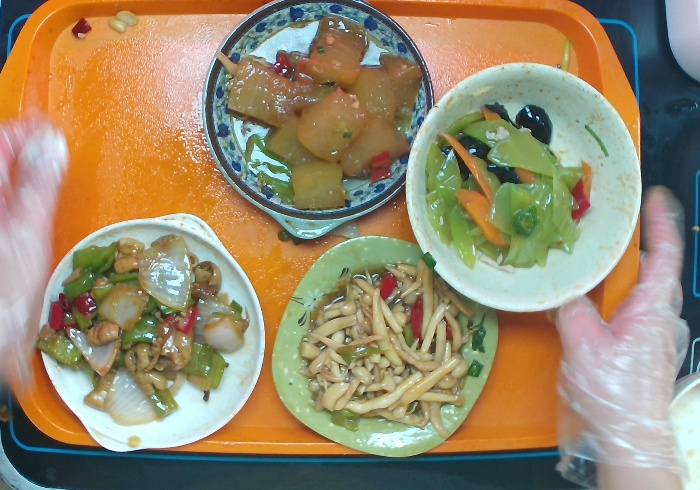NLDX-Bai_Se_Shuang_Er_Die: (34, 206, 267, 455)
NLDX-Bai_Se_Yuan_Wan: (403, 60, 644, 316)
NLDX-Lv_Hua_Fang_Die: (266, 235, 500, 461)
NLDX-Qing_Hua_Shuang_Er_Die: (201, 1, 437, 240)
